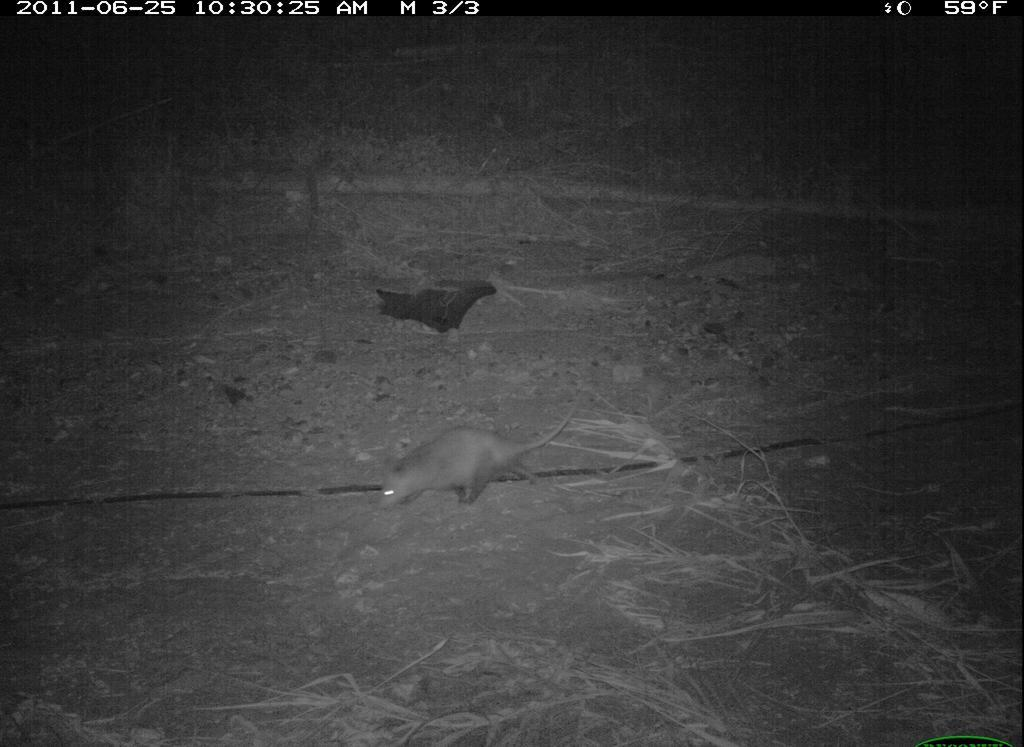opossum: (373, 400, 580, 516)
